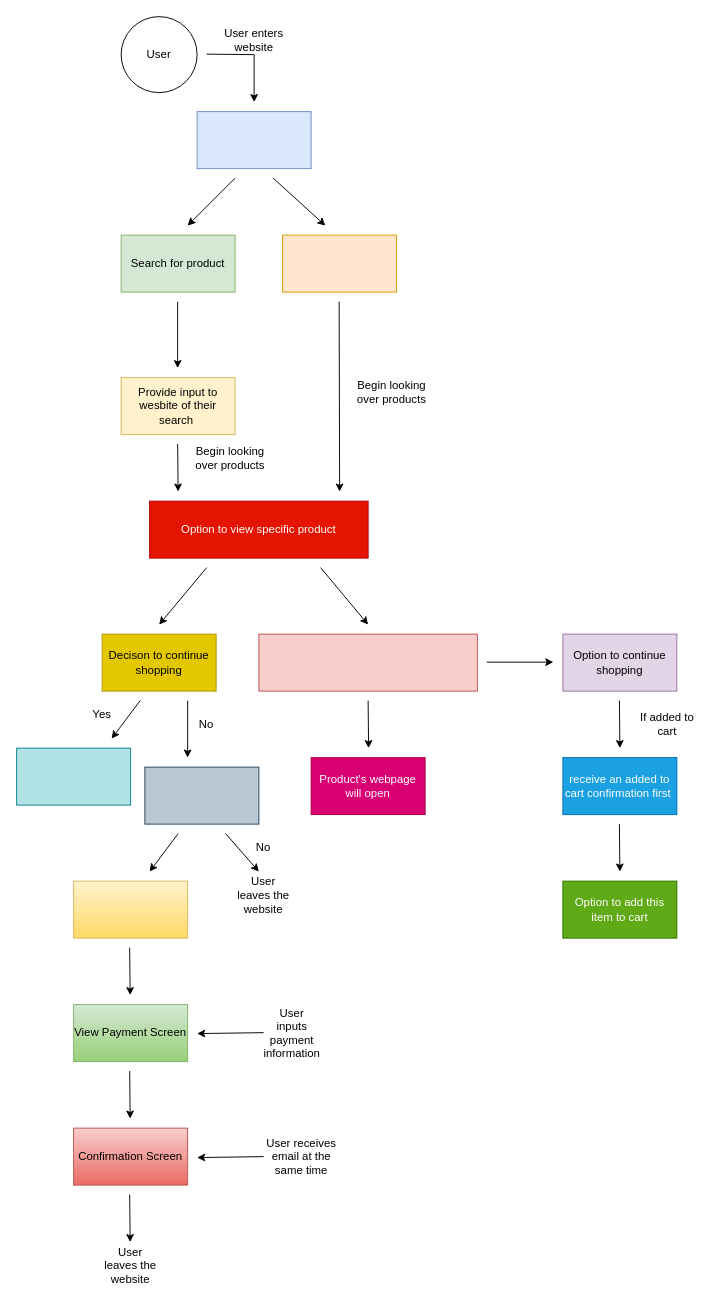
Image size: 713x1302. Some labels were removed from this diagram. Each missing label, with the centre of its shape:
Explore the products: [339,263]
Home Page: [253,140]
Search for new product or not: [73,776]
View Cart Screen: [130,909]
View specific product: [367,662]
Whether or not to checkout: [201,795]
